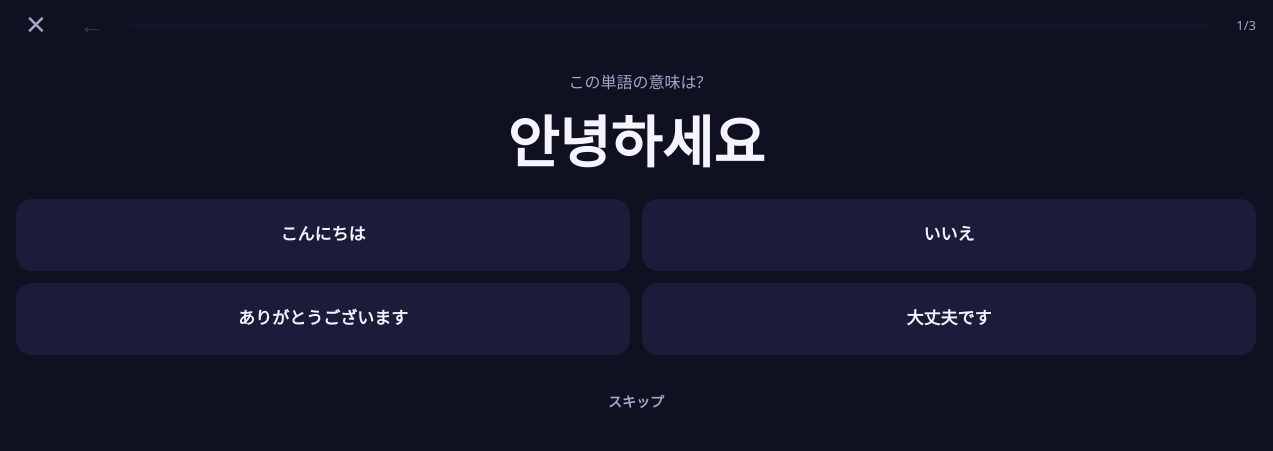
Lesson keyboard control › ← steps back, → / Enter advance from feedback
Click the text "こんにちは" at (323, 235), box [280,224,366,246]
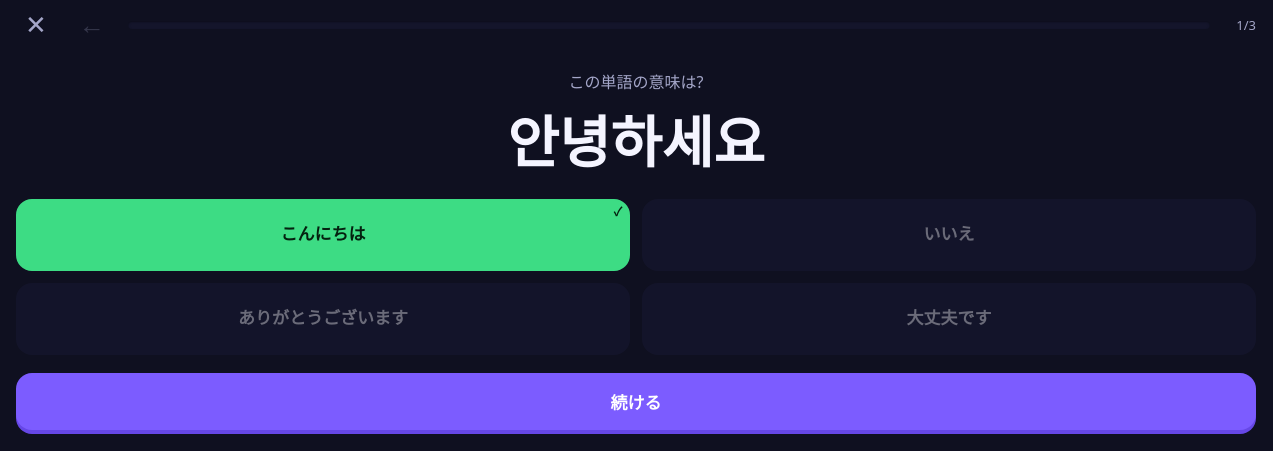
Press ArrowRight
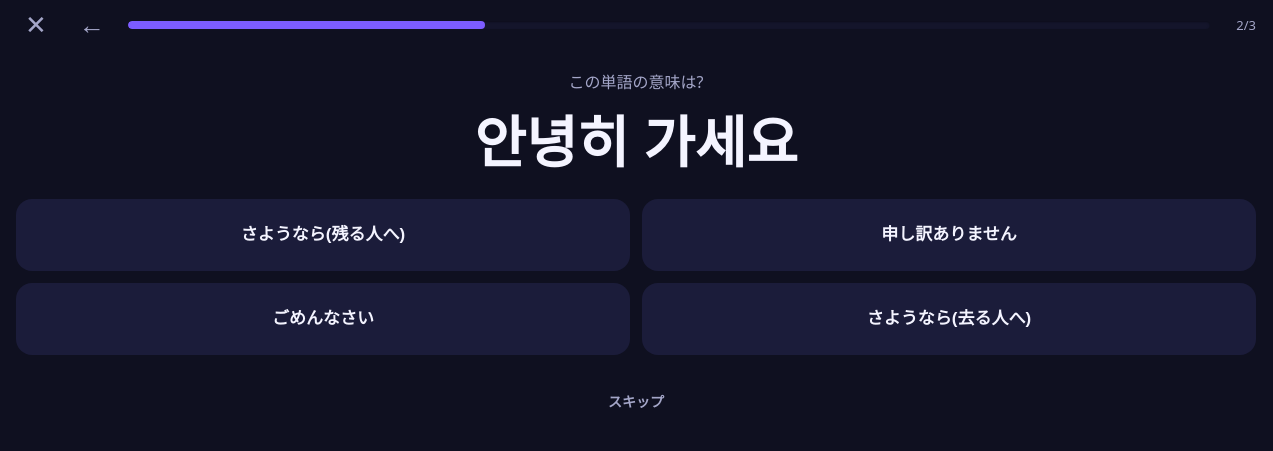
Check: the text "2/3" is shown, box [1236,16,1256,34]
// ← returns to Q1 (read-only feedback for the answered item).
Press ArrowLeft
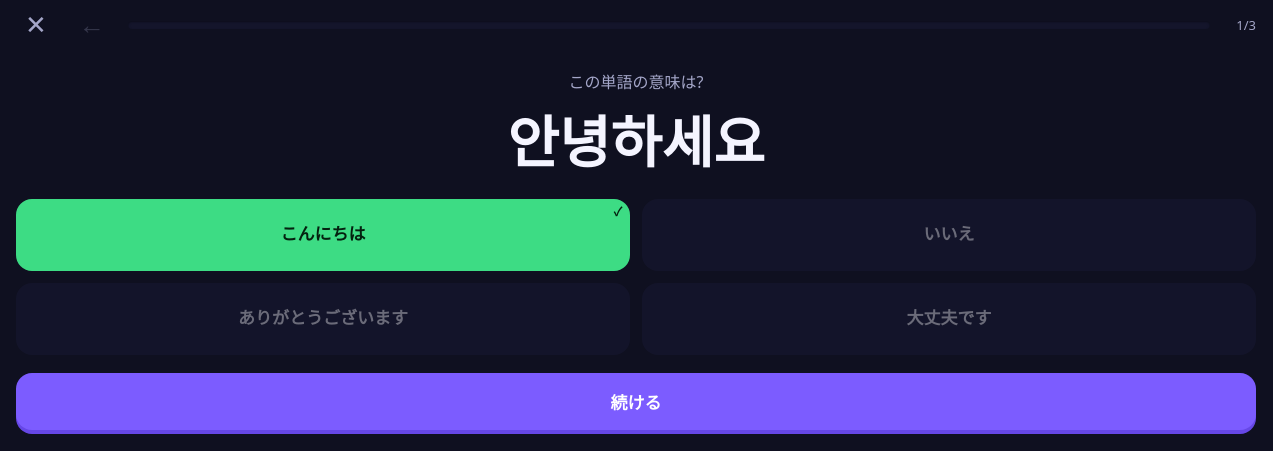
Check: the text "1/3" is shown, box [1236,16,1256,34]
// Enter advances again from feedback.
Press Enter
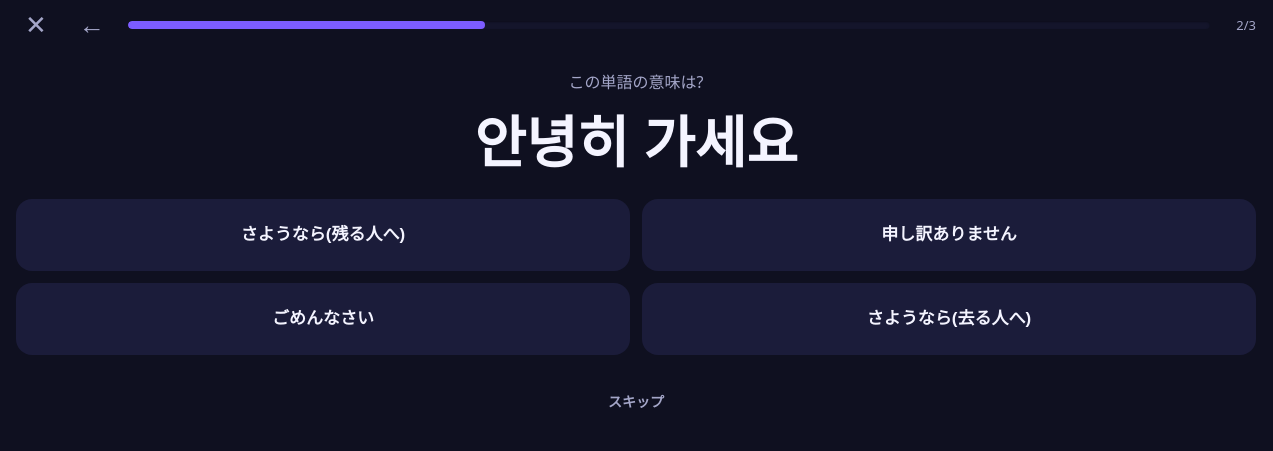
Check: the text "2/3" is shown, box [1236,16,1256,34]
